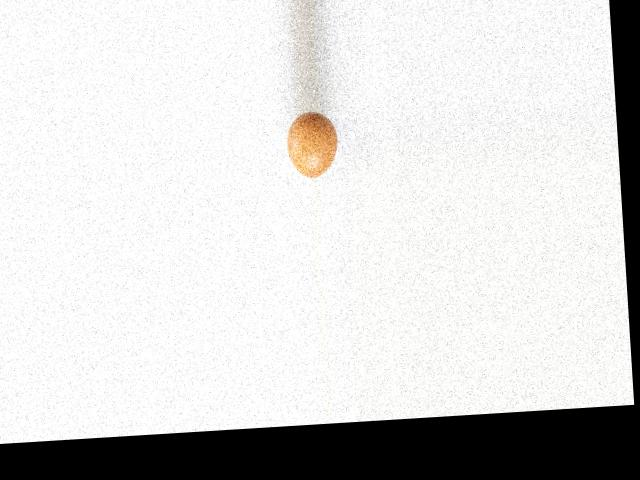egg: (286, 110, 340, 178)
